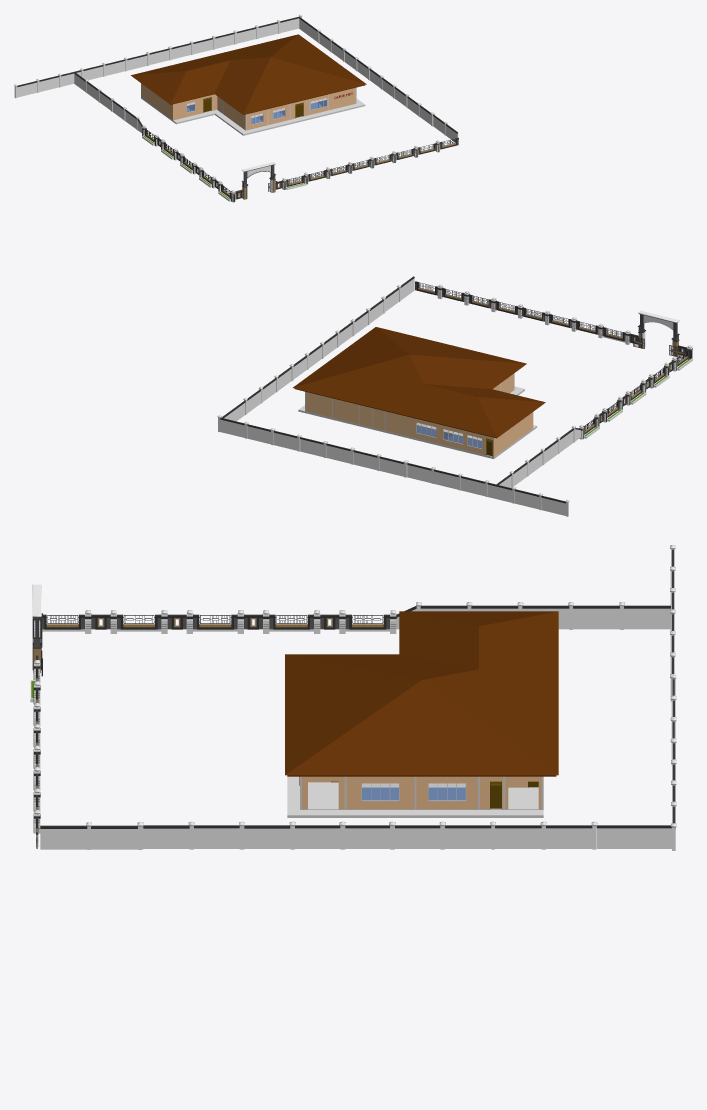
Rendered from Dapur_MBG.fbx.
3 views of the same model, one above another, from view 1: azimuth 30°, elevation 25°; view 2: azimuth 150°, elevation 25°; view 3: azimuth 270°, elevation 25° (orthographic). The views are drawn at different scales.
Visible parts, largest first — view 1: G-Object.347, _G-Object.175 (Loose Mesh), G-Object.346, G-Object.174; view 2: G-Object.347, G-Object.174, _G-Object.175 (Loose Mesh), G-Object.346; view 3: G-Object.347, G-Object.346, _G-Object.175 (Loose Mesh), G-Object.123, G-Object.028, G-Object.031, G-Object.424, G-Object.425, G-Object.097, G-Object.038, G-Object.051, G-Object.102 (+5 smaller).
Part boxes in pixels (x1,y1,x2,y2): G-Object.347: [131, 34, 366, 114]; _G-Object.175 (Loose Mesh): [217, 88, 355, 129]; G-Object.346: [141, 97, 365, 135]; G-Object.174: [141, 83, 217, 120]; G-Object.347: [293, 327, 545, 438]; G-Object.174: [385, 411, 533, 456]; _G-Object.175 (Loose Mesh): [306, 374, 513, 430]; G-Object.346: [298, 386, 537, 458]; G-Object.347: [285, 611, 558, 776]; G-Object.346: [287, 776, 543, 817]; _G-Object.175 (Loose Mesh): [302, 776, 541, 809]; G-Object.123: [596, 825, 671, 848]; G-Object.028: [40, 825, 87, 849]; G-Object.031: [91, 825, 137, 849]; G-Object.424: [573, 605, 619, 629]; G-Object.425: [624, 605, 670, 629]; G-Object.097: [445, 825, 491, 848]; G-Object.038: [143, 825, 189, 848]; G-Object.051: [244, 825, 290, 848]; G-Object.102: [495, 825, 541, 848].
Bounding box in the file's own units: 19554 × 1440 × 10176.
Materials: 17 (10 with a texture image).
